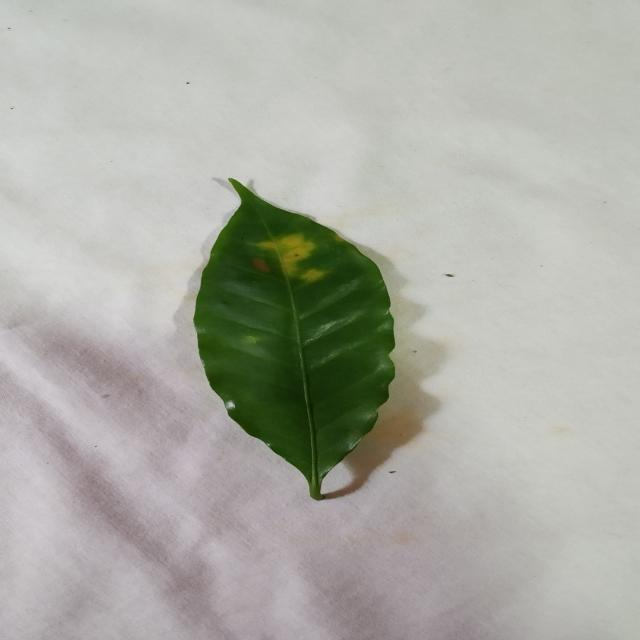Enfermedad-Roya: (191, 179, 397, 503)
